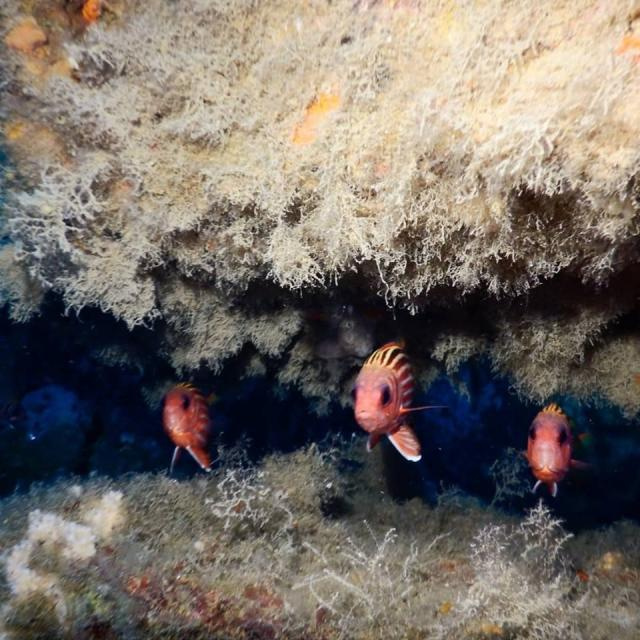Asker Baligi: (349, 339, 449, 463), (520, 401, 590, 498), (159, 381, 216, 476)
